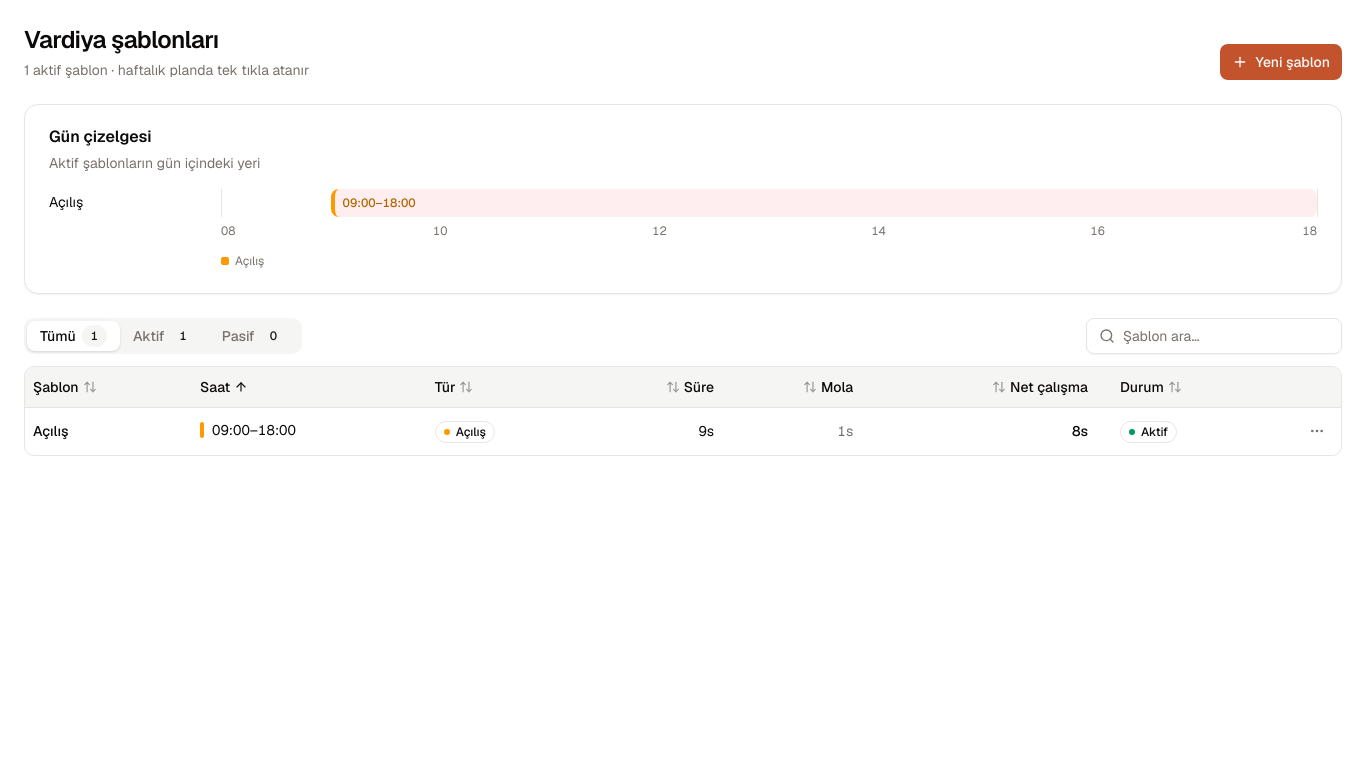
Scenario: ShiftTemplatesPage — düzenleme › Satır menüsünden Düzenle seçilince dialog açılır ve mevcut data gelir
Click the button named "açılış işlemleri": (1317, 431) top-left (1301, 415), bottom-right (1333, 447)
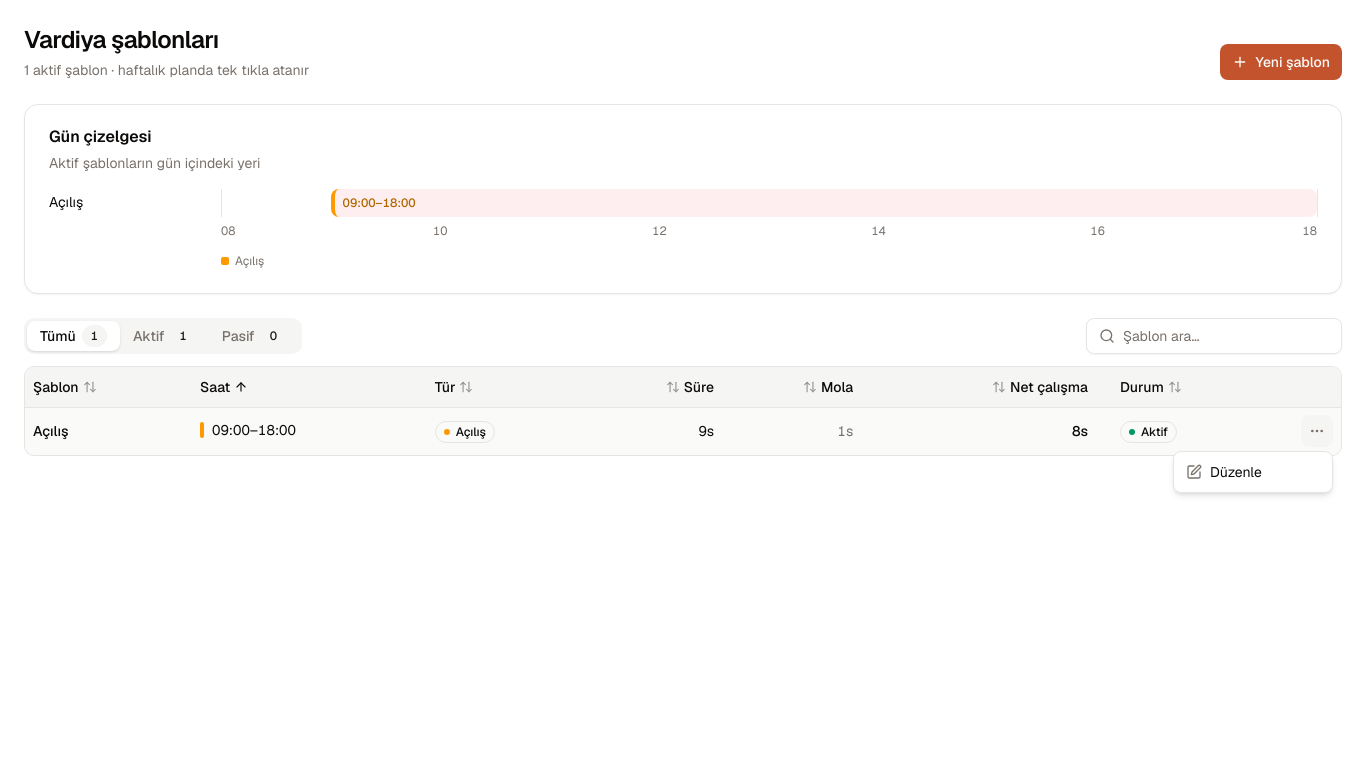
Click the menu item "Düzenle": (1224, 472) top-left (1186, 463), bottom-right (1262, 481)
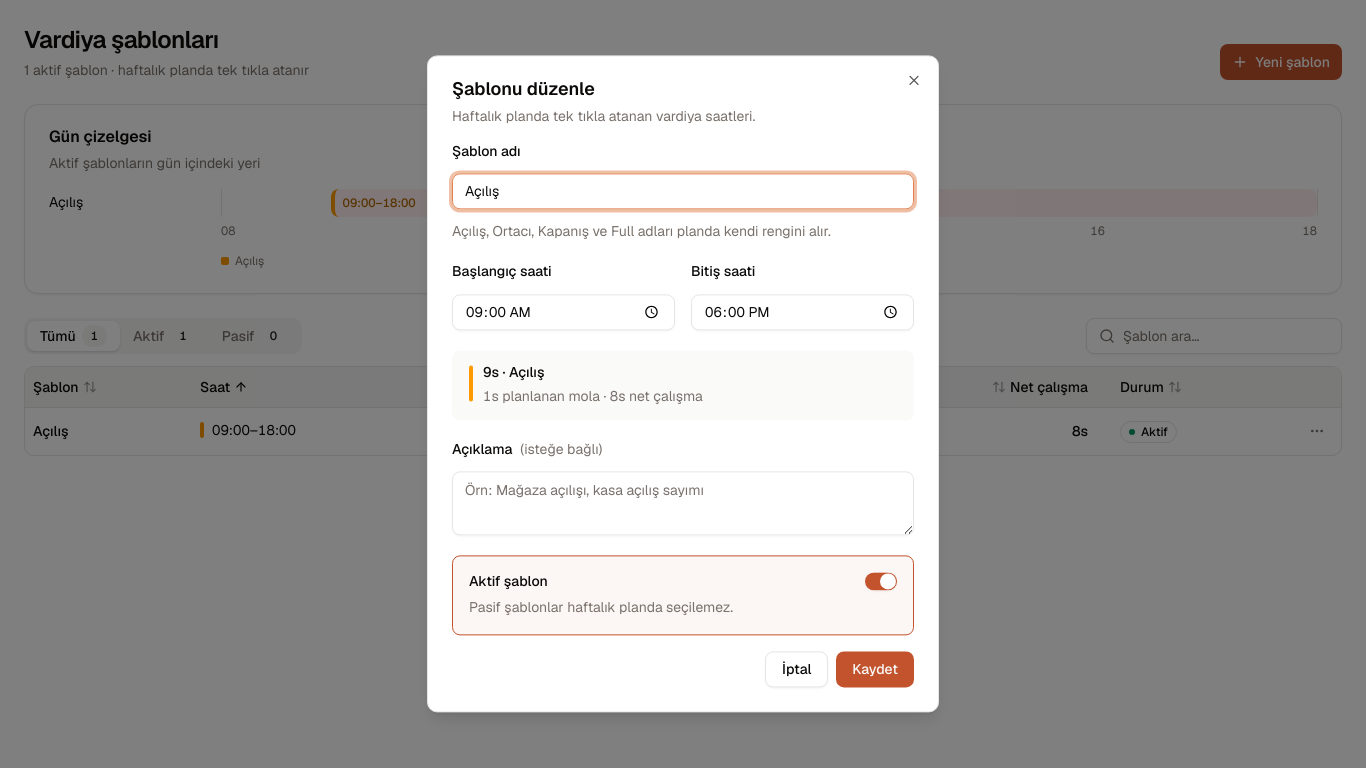
Expected: the heading "Şablonu düzenle" is shown, top-left (452, 77), bottom-right (595, 100)
Expected: the field showing "Açılış" is shown, top-left (452, 174), bottom-right (914, 210)
